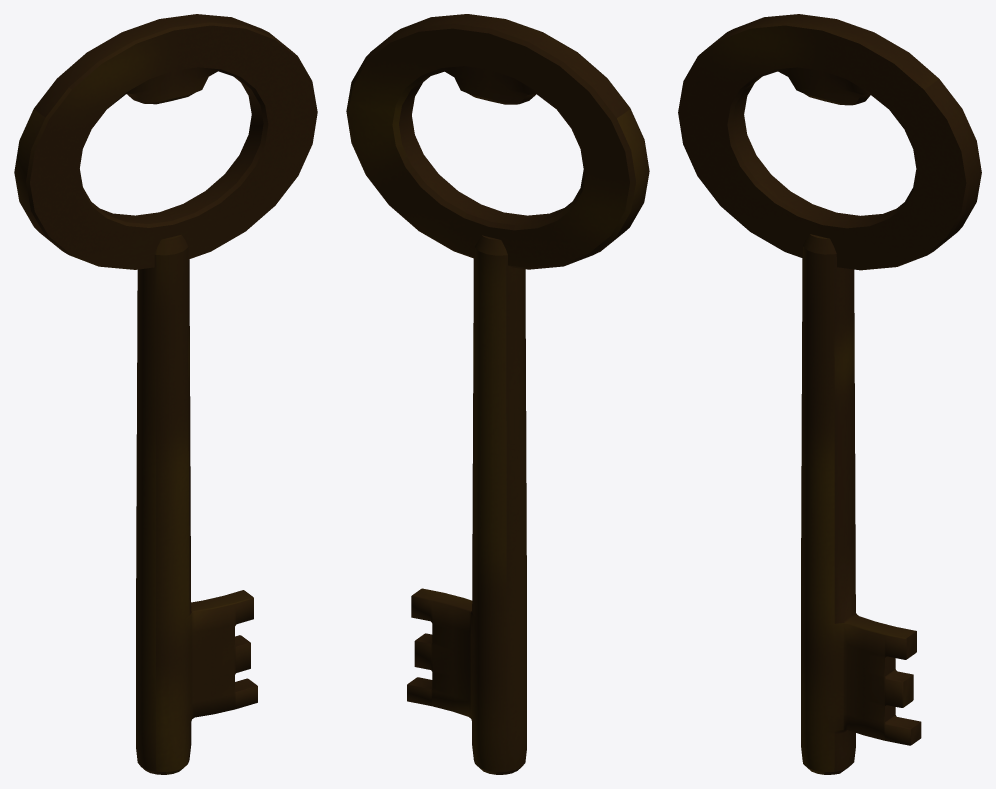
File: dreamlandkey.obj
The picture shows the model from 3 angles, left to right: view 1: azimuth 30°, elevation 25°; view 2: azimuth 150°, elevation 25°; view 3: azimuth 330°, elevation 25°; orthographic projection.
Visible parts, largest first — view 1: Key_01_polySurface1; view 2: Key_01_polySurface1; view 3: Key_01_polySurface1.
Boxes of the visible parts, x1,y1,x2,y2 form: Key_01_polySurface1: (14,14,317,774); Key_01_polySurface1: (346,14,649,774); Key_01_polySurface1: (678,14,981,774).
Size of the model in its own units: 0.1278 by 0.3102 by 0.0207.
1 material, 1 textured.
